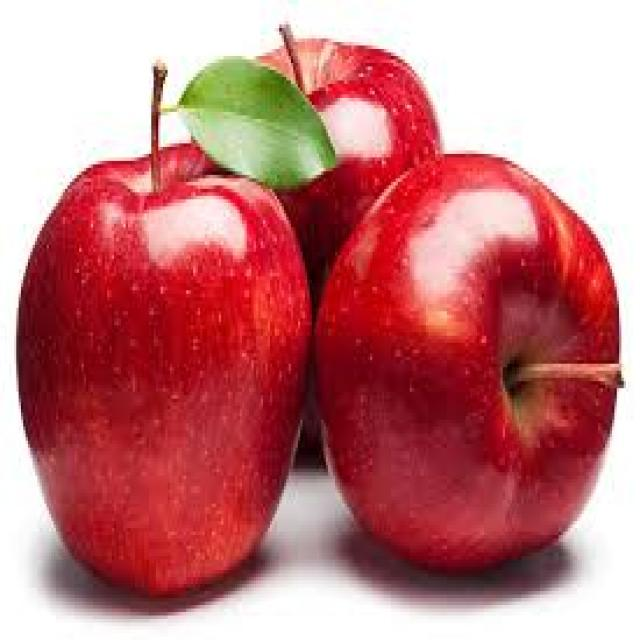apple: (7, 140, 317, 625)
